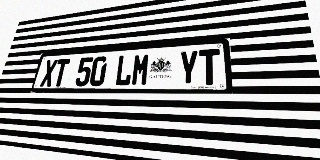0: (89, 56, 108, 86)
5: (74, 57, 94, 86)
L: (114, 54, 134, 86)
M: (131, 53, 150, 86)
T: (199, 49, 220, 85), (52, 59, 70, 87)
X: (40, 59, 58, 87)
Y: (178, 50, 198, 85)
